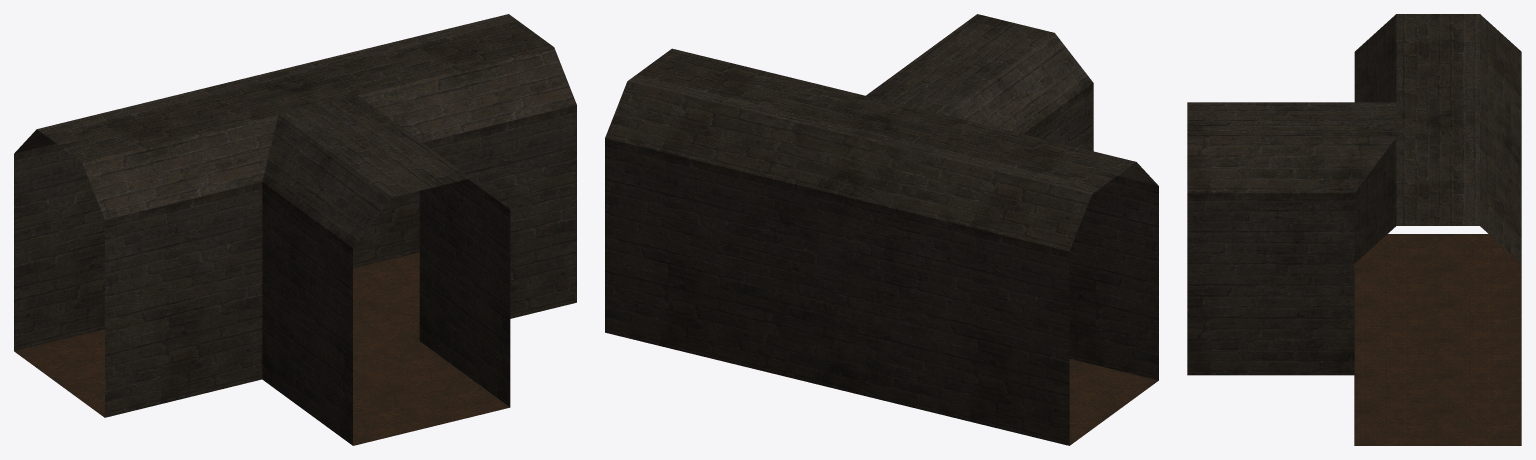
Rendered from tunnel_mp_1_tee.glb.
3 views of the same model, side by side, from view 1: azimuth 30°, elevation 25°; view 2: azimuth 150°, elevation 25°; view 3: azimuth 270°, elevation 25° (orthographic). The views are drawn at different scales.
Parts seen in each view (by area): view 1: tunnel_mp_1_tee; view 2: tunnel_mp_1_tee; view 3: tunnel_mp_1_tee.
Part boxes in pixels (bbox=[...]): tunnel_mp_1_tee: bbox=[14, 14, 576, 445]; tunnel_mp_1_tee: bbox=[605, 14, 1158, 445]; tunnel_mp_1_tee: bbox=[1187, 14, 1521, 445].
Bounding box in the file's own units: 6 × 2.9 × 4.
Materials: 2 (2 with a texture image).
